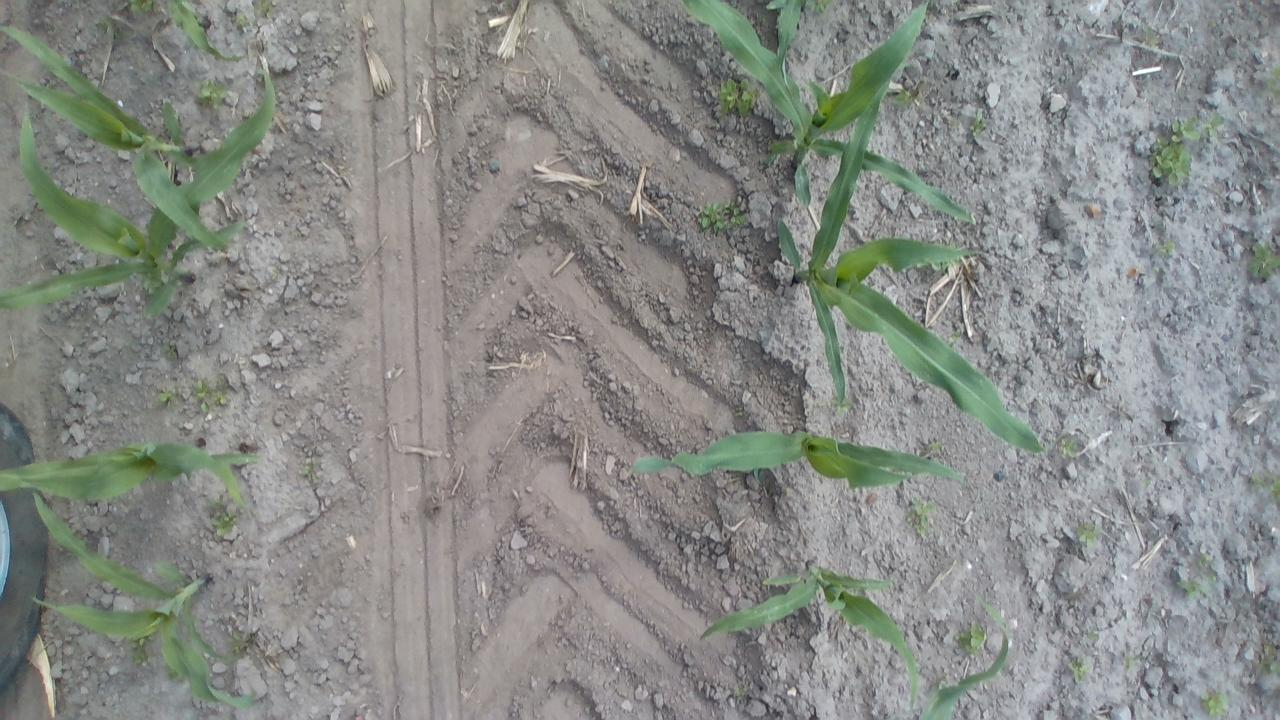Maize: (772, 78, 1050, 454), (0, 64, 281, 323), (671, 0, 976, 237), (21, 481, 266, 714), (1, 20, 240, 258), (694, 558, 933, 698), (0, 432, 263, 524), (618, 424, 969, 492), (912, 590, 1013, 718), (126, 0, 249, 70), (762, 1, 841, 63)
Weeds: (1148, 140, 1193, 194), (1172, 554, 1221, 602), (694, 198, 754, 237), (716, 75, 762, 118), (904, 492, 940, 542), (188, 377, 234, 416), (1243, 235, 1277, 286), (951, 622, 994, 661), (194, 76, 232, 113), (208, 497, 240, 539), (1062, 652, 1096, 688), (1197, 688, 1235, 718), (1168, 116, 1210, 142), (1071, 518, 1104, 550), (1248, 470, 1278, 503), (126, 640, 156, 672), (1256, 644, 1279, 682), (298, 458, 325, 490), (1197, 114, 1226, 142), (155, 335, 183, 364), (894, 81, 921, 111), (154, 384, 186, 409), (1256, 62, 1276, 100), (922, 439, 952, 463), (1154, 239, 1184, 263), (230, 9, 251, 40), (1055, 432, 1077, 459), (249, 0, 279, 18), (970, 109, 990, 136), (922, 260, 952, 276), (1121, 652, 1140, 674), (1084, 628, 1100, 645)
